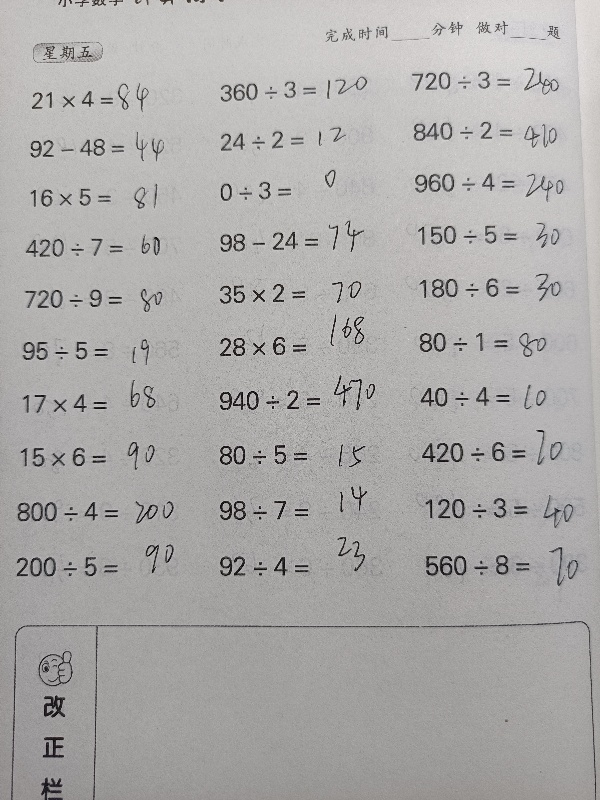equation: (413, 422, 593, 473), (214, 314, 391, 363), (21, 122, 201, 167), (24, 73, 204, 118), (210, 165, 377, 212), (213, 374, 391, 418), (15, 378, 194, 421), (411, 325, 591, 365), (404, 113, 584, 153), (416, 547, 596, 584), (7, 548, 187, 584), (211, 548, 391, 584), (417, 490, 597, 526), (211, 72, 391, 108), (9, 494, 189, 529), (211, 493, 391, 528), (13, 440, 193, 475), (210, 437, 390, 472), (411, 379, 591, 414), (411, 271, 591, 306), (409, 217, 589, 252), (405, 164, 585, 199), (15, 334, 195, 368), (17, 282, 197, 316), (211, 276, 391, 310), (18, 231, 198, 265), (211, 224, 391, 258), (22, 181, 202, 214), (212, 124, 392, 157), (403, 64, 583, 97)
